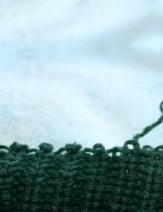snag: (125, 100, 163, 153)
